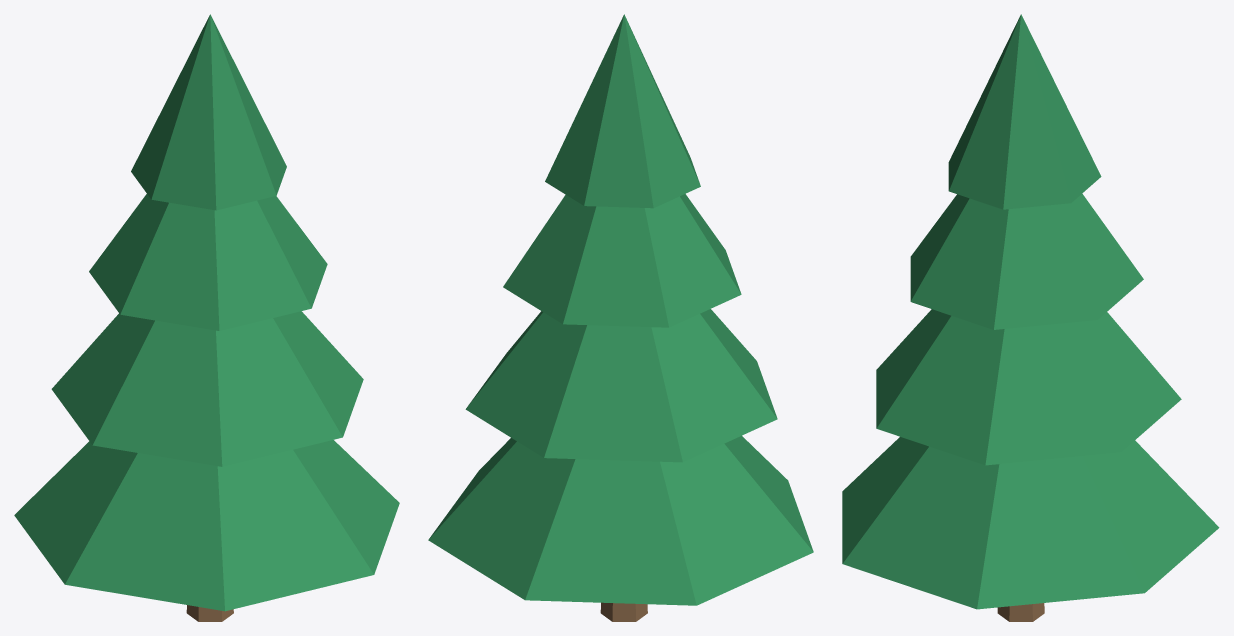
File: Tree_03_Pine.fbx
3 views of the same model, side by side, from view 1: azimuth 30°, elevation 25°; view 2: azimuth 150°, elevation 25°; view 3: azimuth 270°, elevation 25° (orthographic).
Parts seen in each view (by area): view 1: Tree_03_Pine; view 2: Tree_03_Pine; view 3: Tree_03_Pine.
Boxes of the visible parts, x1,y1,x2,y2 form: Tree_03_Pine: [14, 14, 399, 621]; Tree_03_Pine: [428, 14, 813, 621]; Tree_03_Pine: [842, 14, 1219, 621].
Bounding box in the file's own units: 4.09 × 7 × 3.99.
